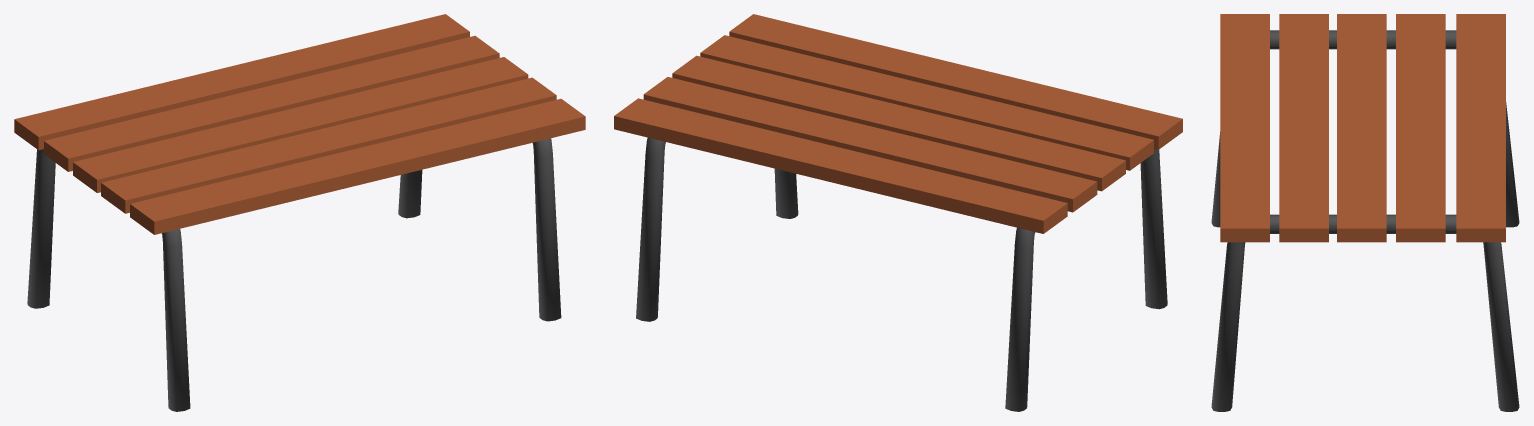
3 renders of one model, left to right at view 1: azimuth 30°, elevation 25°; view 2: azimuth 150°, elevation 25°; view 3: azimuth 270°, elevation 25°, orthographic. The views are drawn at different scales.
Parts seen in each view (by area): view 1: table; view 2: table; view 3: table.
Boxes of the visible parts, box(x1,y1,x2,y2) form: table: box(14, 14, 585, 411); table: box(614, 14, 1182, 411); table: box(1211, 14, 1519, 411).
Size of the model in its own units: 210 by 89.35 by 127.
